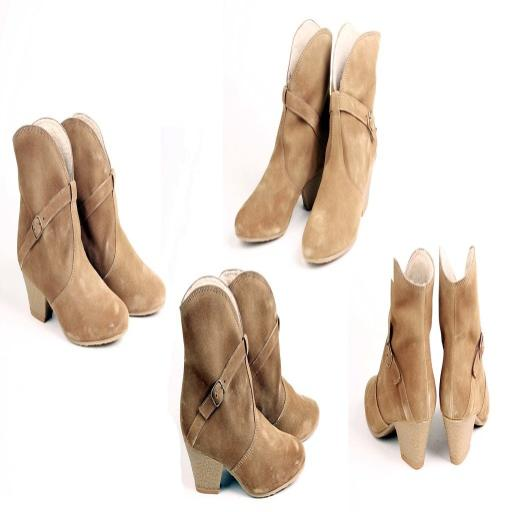boots: (180, 277, 305, 497), (13, 118, 129, 345), (235, 20, 332, 241), (62, 114, 166, 316), (302, 24, 380, 263), (220, 271, 320, 441), (364, 250, 436, 469), (439, 248, 489, 464)
